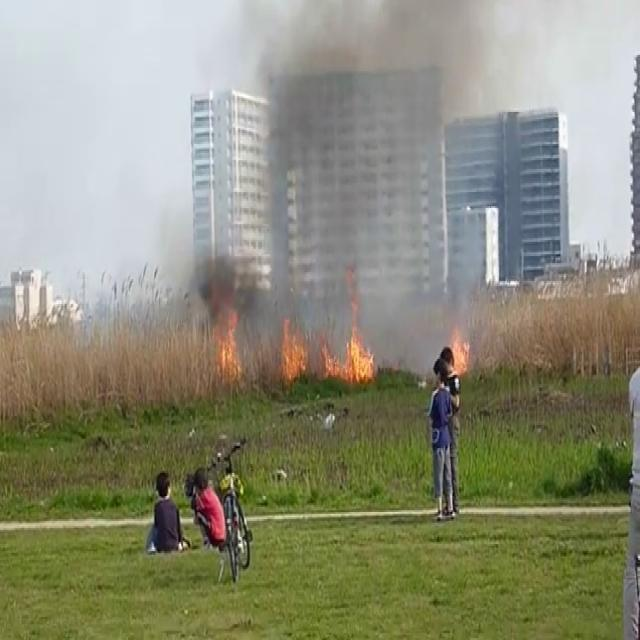Fire: (206, 298, 249, 387), (341, 300, 377, 392), (276, 309, 310, 393), (445, 322, 474, 382)
Smoke: (252, 0, 504, 361)
